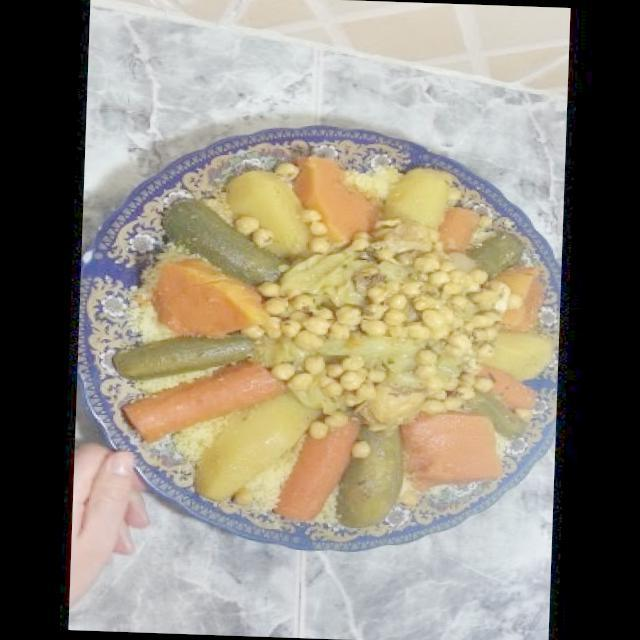Couscous: (79, 121, 572, 562)
